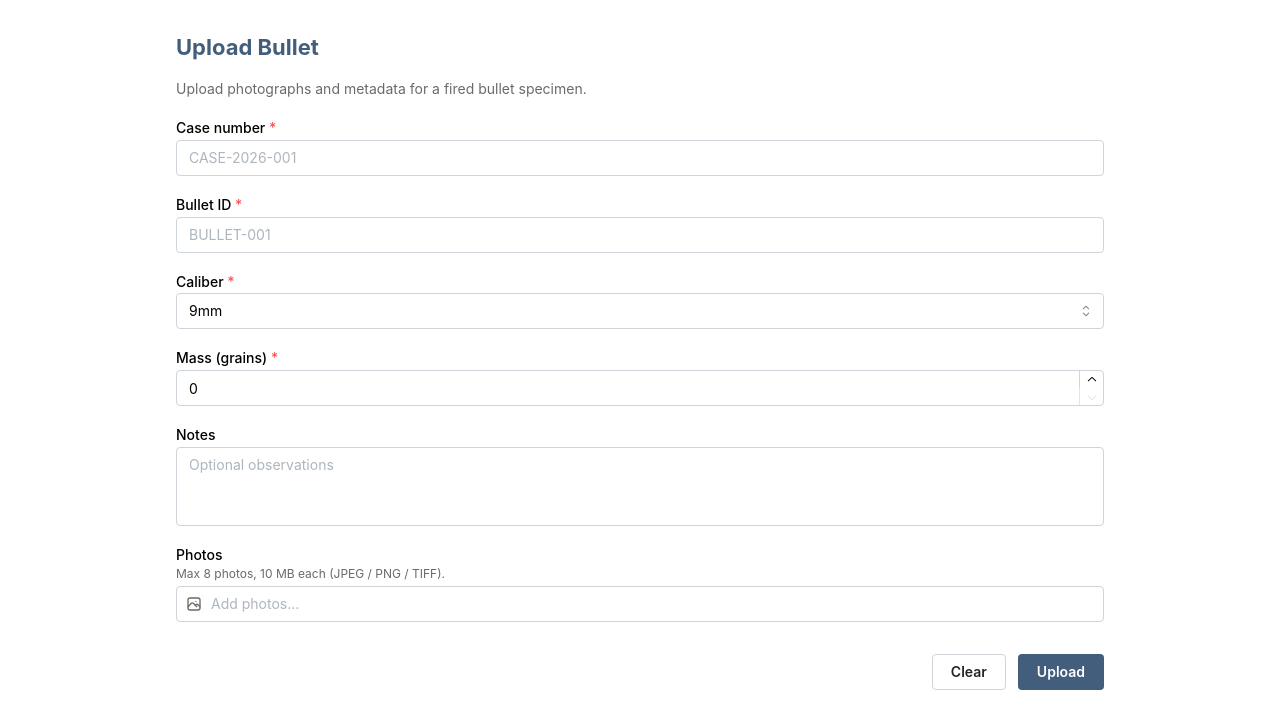
Test: UploadBulletPage › Clear resets dirty caseNumber input
In the field labelled "Case number *": coordinates (640, 158) [176,140,1104,176], type "CASE-1"
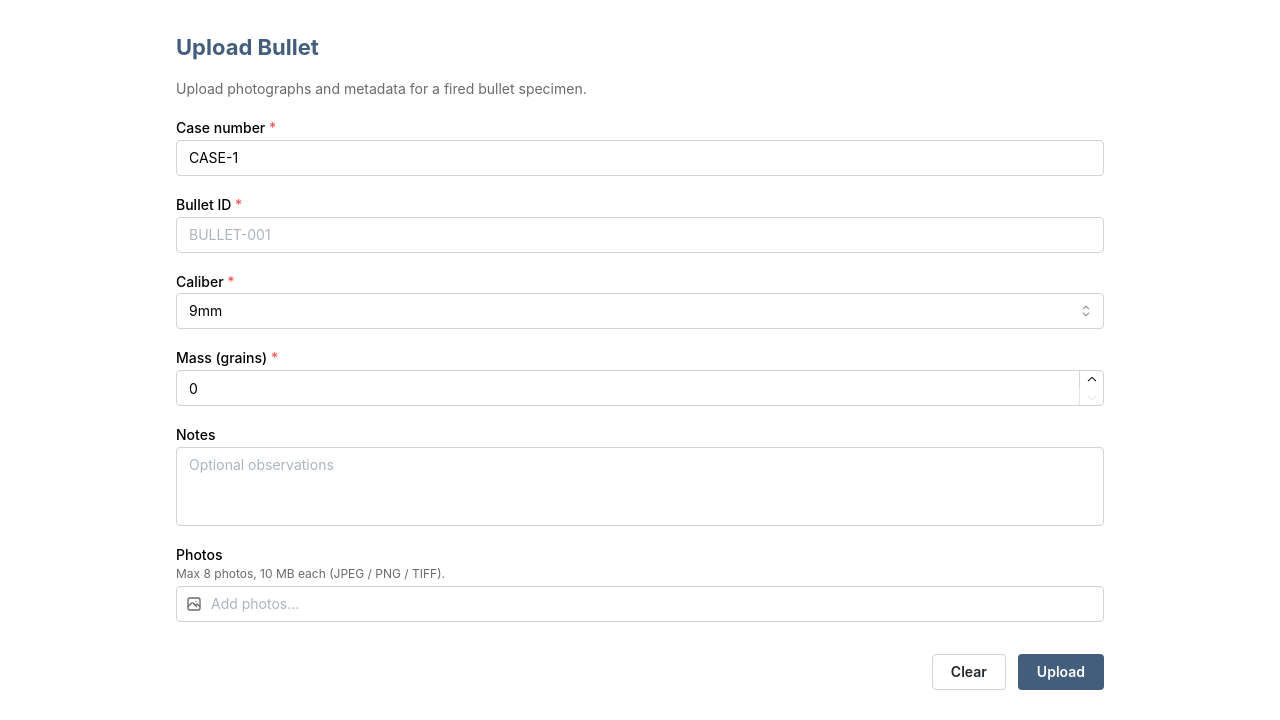
Click the button "Clear": coordinates (969, 672) [932,654,1006,690]
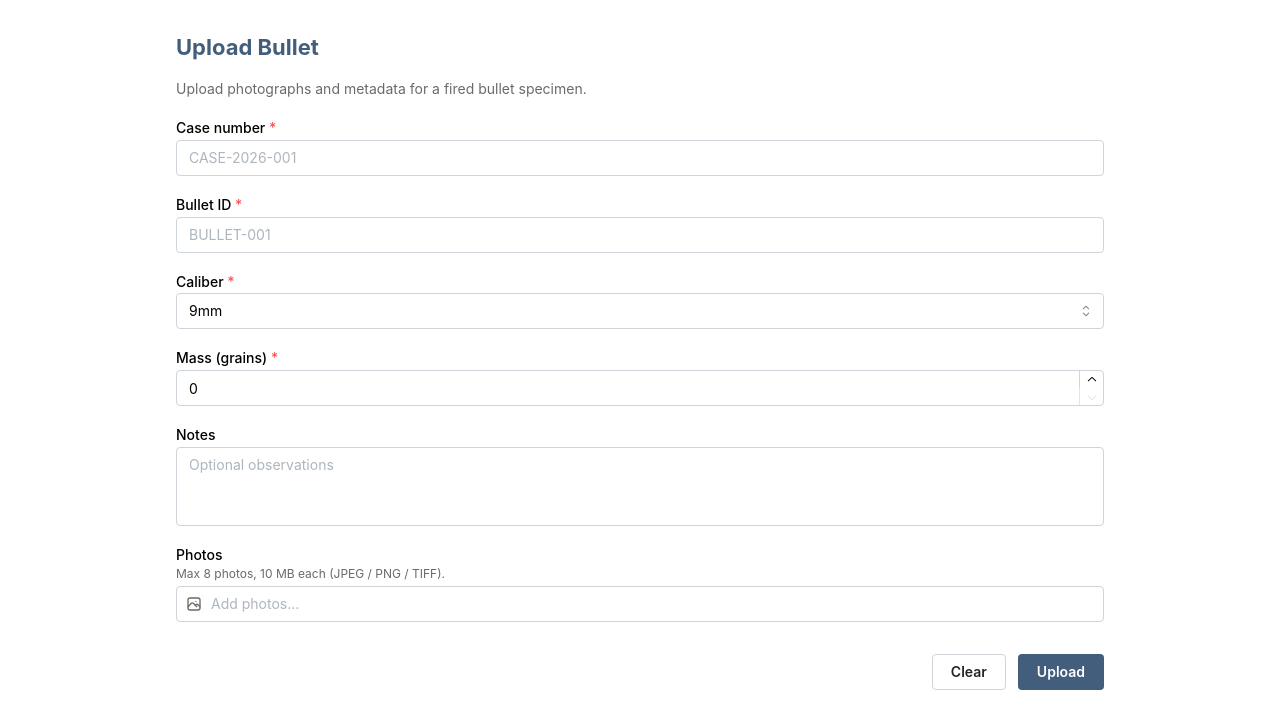
Expected: the field labelled "Case number *" is empty, [176,140,1104,176]
